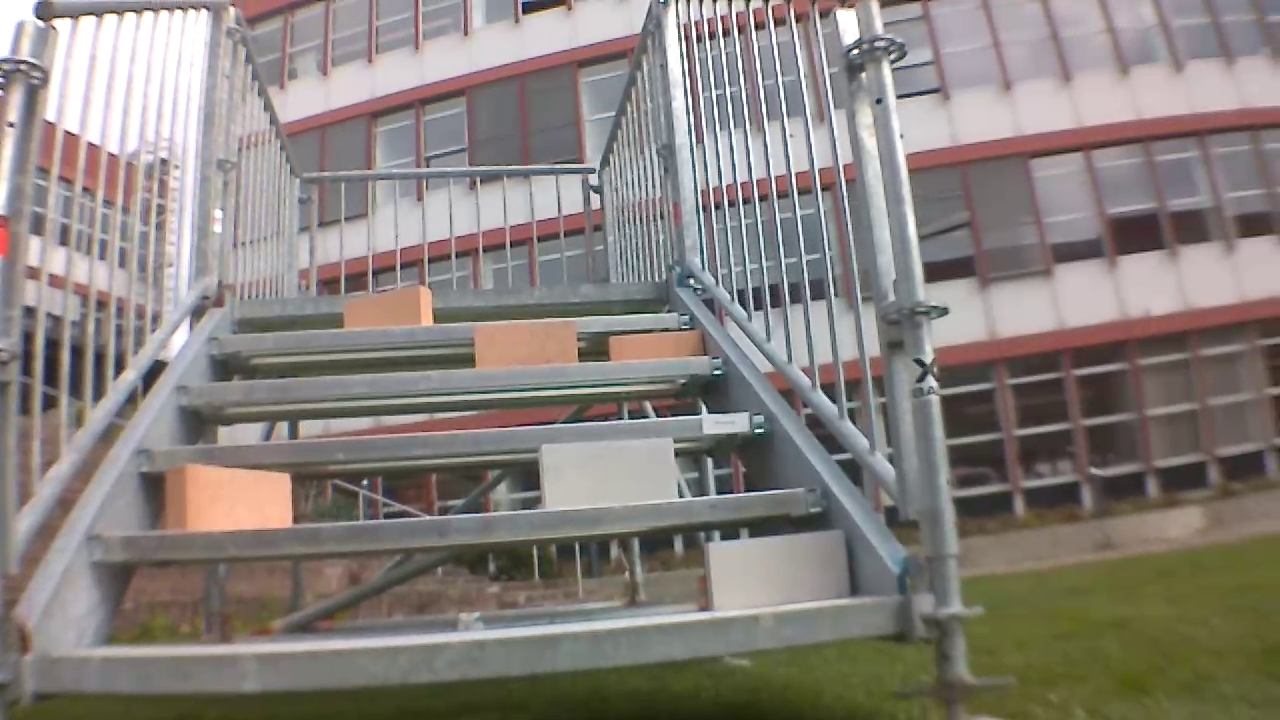brick: (703, 531, 851, 612), (539, 438, 674, 507), (164, 465, 291, 533), (476, 321, 577, 367), (343, 287, 432, 331), (609, 329, 702, 363)
edge: (36, 598, 896, 690), (87, 487, 822, 559), (137, 411, 766, 472), (177, 356, 724, 402), (209, 313, 691, 348), (238, 281, 666, 311)
stairs: (5, 4, 1006, 719)
steps: (33, 275, 902, 698)
